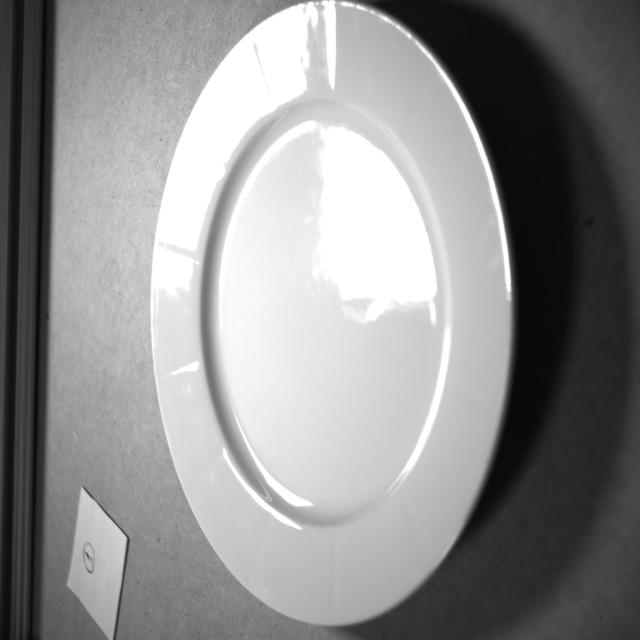plate: (141, 0, 536, 640)
